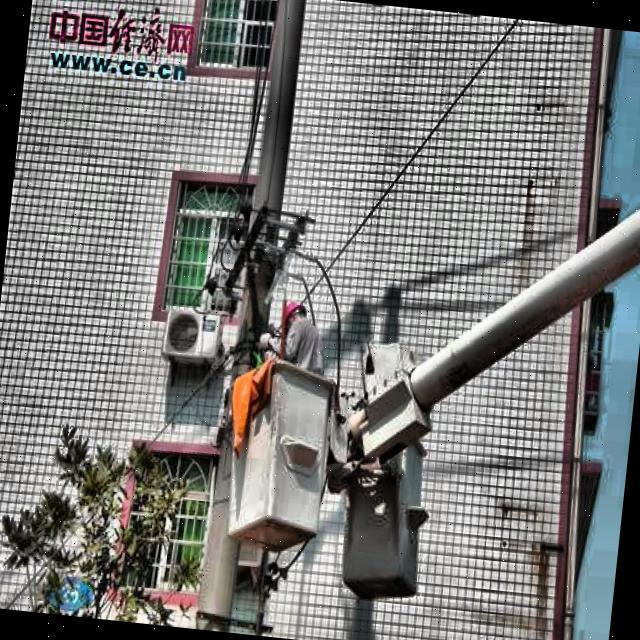helmet: (274, 294, 311, 331)
